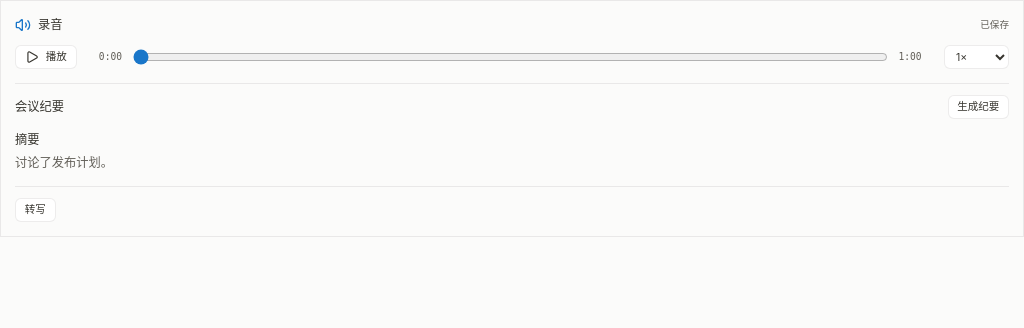
Test case: VoiceRecordPanel › pages Transcript by stable cursor and seeks the shared player
Click the button "转写": (35, 210) [15, 198, 56, 222]
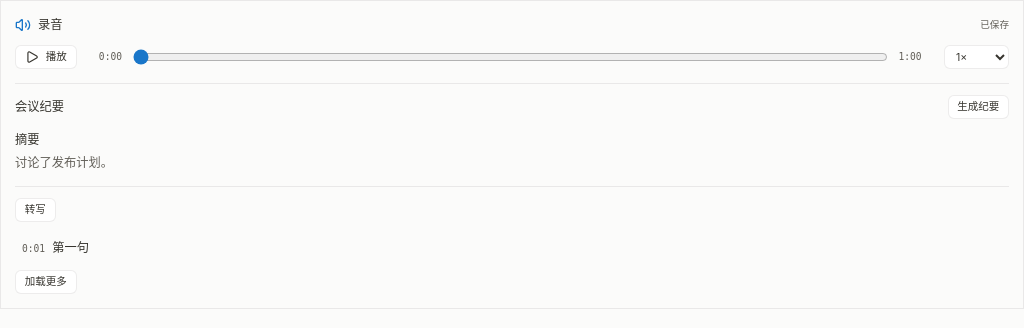
Click the button "0:01第一句": (71, 248) [15, 233, 1009, 263]
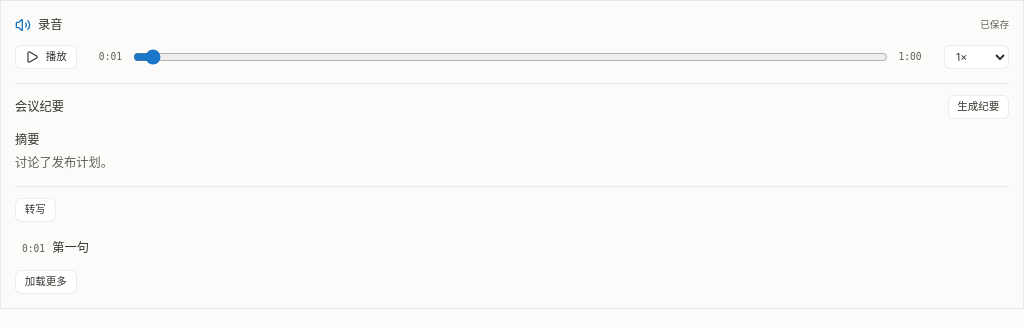
Click the button "加载更多": (46, 282) [15, 270, 76, 294]
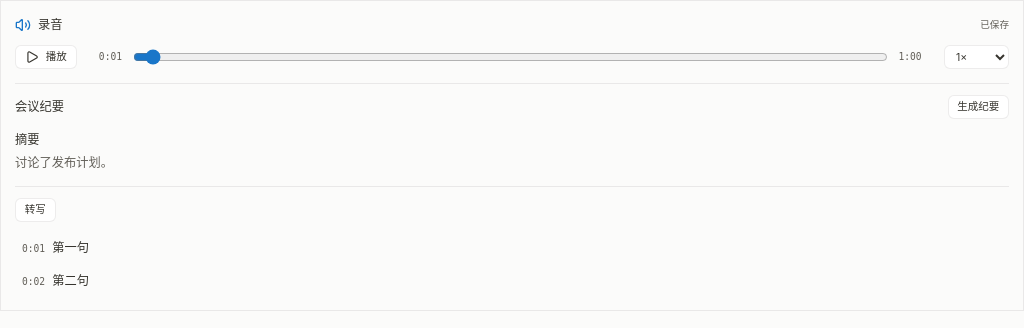
Check: the button "0:02第二句" is shown, box [15, 266, 1009, 296]
